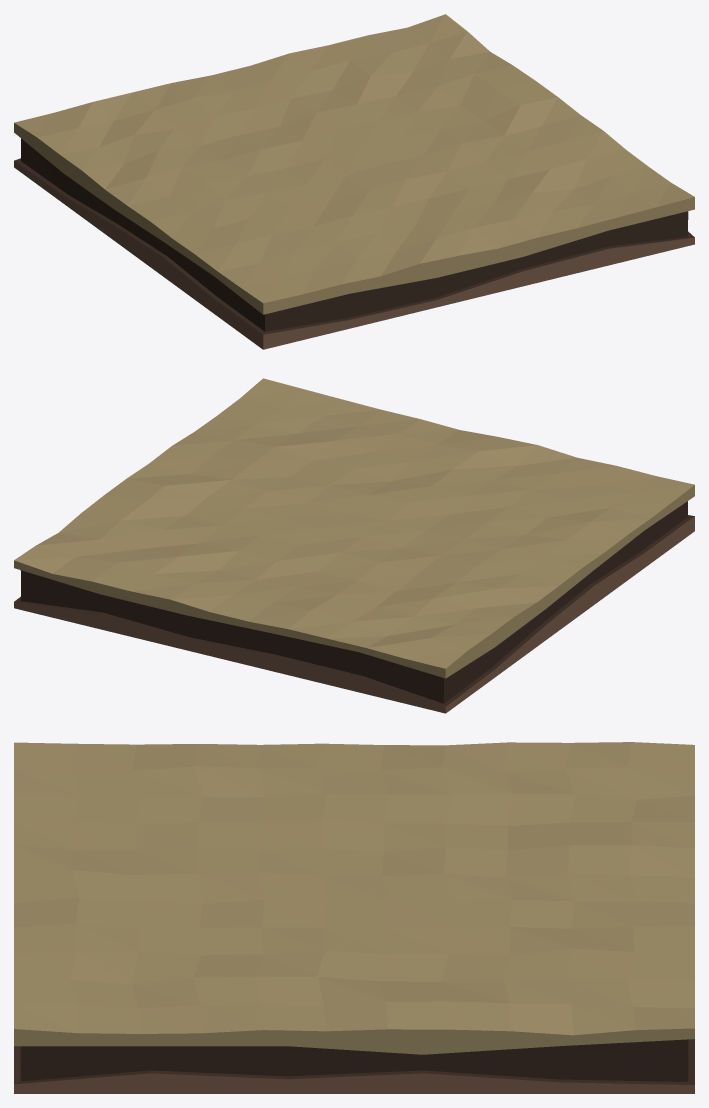
The picture shows the model from 3 angles, top to bottom: view 1: azimuth 30°, elevation 25°; view 2: azimuth 150°, elevation 25°; view 3: azimuth 270°, elevation 25°; orthographic projection. The views are drawn at different scales.
Visible parts, largest first — view 1: Base; view 2: Base; view 3: Base.
Boxes of the visible parts, x1,y1,x2,y2 form: Base: (14,14,694,349); Base: (14,378,694,713); Base: (14,742,694,1093).
Size of the model in its own units: 10000 by 1085 by 9997.
